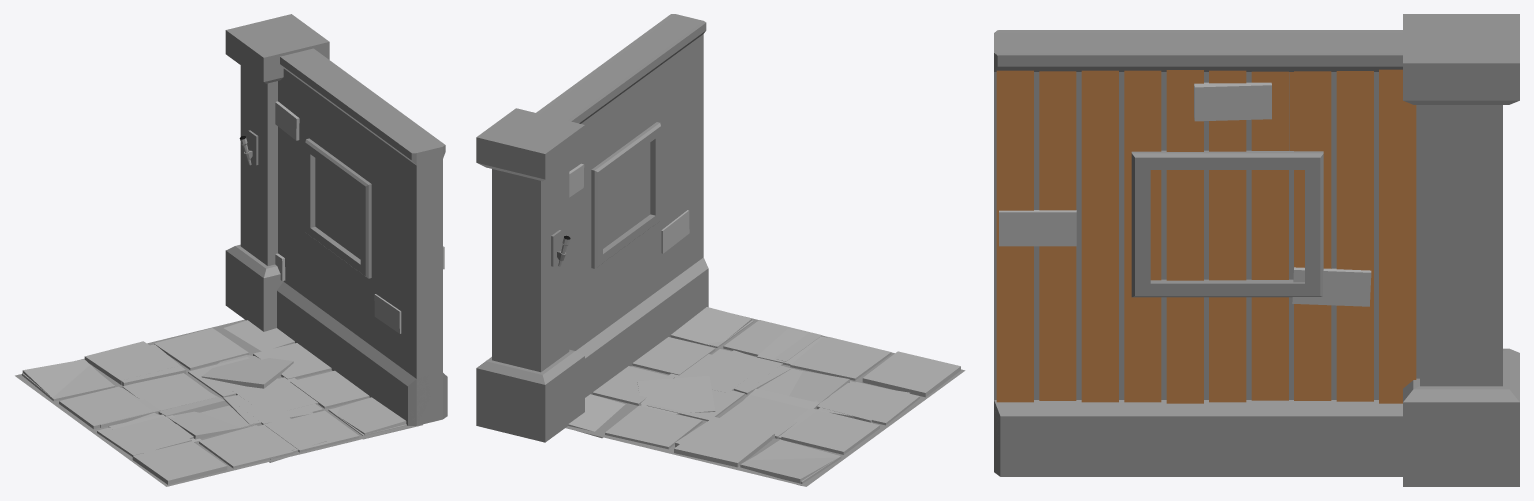
The model's file is TileSet.FBX.
3 renders of one model, left to right at view 1: azimuth 30°, elevation 25°; view 2: azimuth 150°, elevation 25°; view 3: azimuth 270°, elevation 25°, orthographic. The views are drawn at different scales.
Visible parts, largest first — view 1: mur1, sol2, CadrePorte, colonne, sol1, mur2, sol3, fenetre, chandelle; view 2: colonne, mur1, sol2, sol1, CadrePorte, sol3, mur2, fenetre; view 3: mur2, mur1, colonne, CadrePorte, fenetre.
Boxes of the visible parts, x1,y1,x2,y2 form: mur1: (275,48,444,425); sol2: (15,319,422,486); CadrePorte: (280,49,445,382); colonne: (225,14,329,331); sol1: (59,320,331,468); mur2: (277,56,447,425); sol3: (22,355,406,462); fenetre: (285,60,447,424); chandelle: (239,130,258,165); colonne: (476,108,584,442); mur1: (536,14,708,350); sol2: (565,314,965,486); sol1: (568,337,919,467); CadrePorte: (540,14,706,271); sol3: (637,307,874,483); mur2: (555,21,708,397); fenetre: (578,21,708,395); mur2: (994,30,1416,476); mur1: (994,30,1402,476); colonne: (1403,14,1519,486); CadrePorte: (994,30,1419,399); fenetre: (994,30,1371,476).
Bounding box in the file's own units: 112 × 102 × 113.
1 material, 1 textured.
